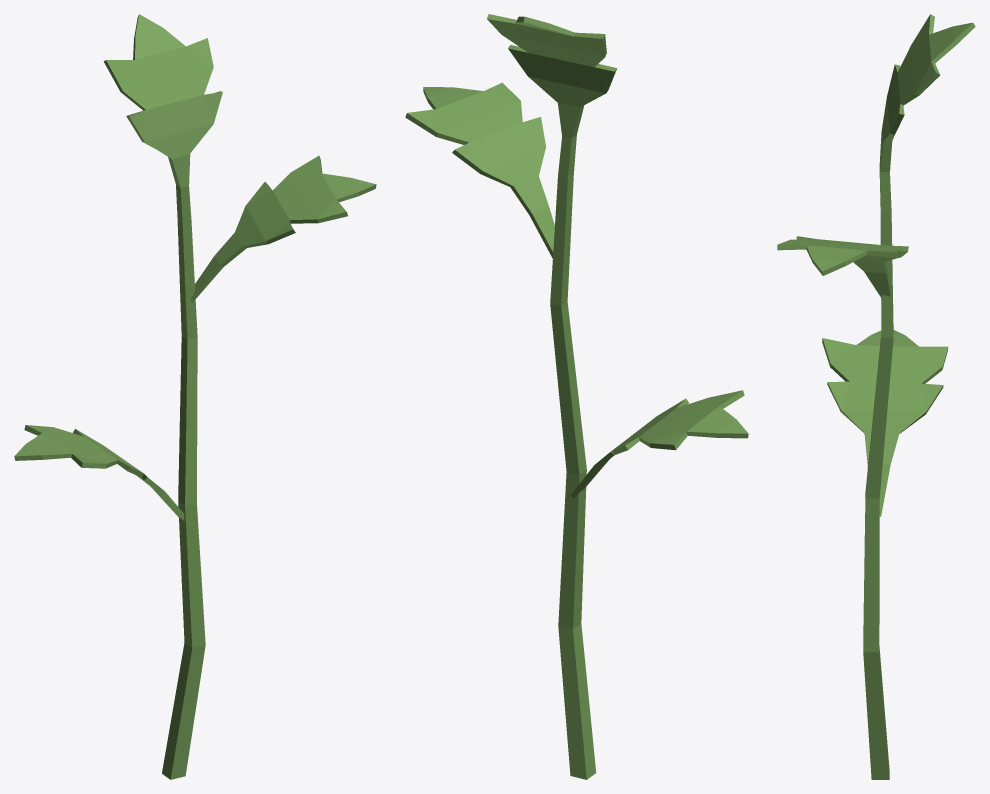
The model's file is tomato_2.gltf.
3 views of the same model, side by side, from view 1: azimuth 30°, elevation 25°; view 2: azimuth 150°, elevation 25°; view 3: azimuth 270°, elevation 25° (orthographic). The views are drawn at different scales.
Visible parts, largest first — view 1: tomato_2; view 2: tomato_2; view 3: tomato_2.
Boxes of the visible parts, <box> form: tomato_2: <box>14,14,376,779</box>; tomato_2: <box>405,14,748,779</box>; tomato_2: <box>777,14,975,779</box>.
Bounding box in the file's own units: 0.3768 × 0.7908 × 0.1874.
1 material, 1 textured.
